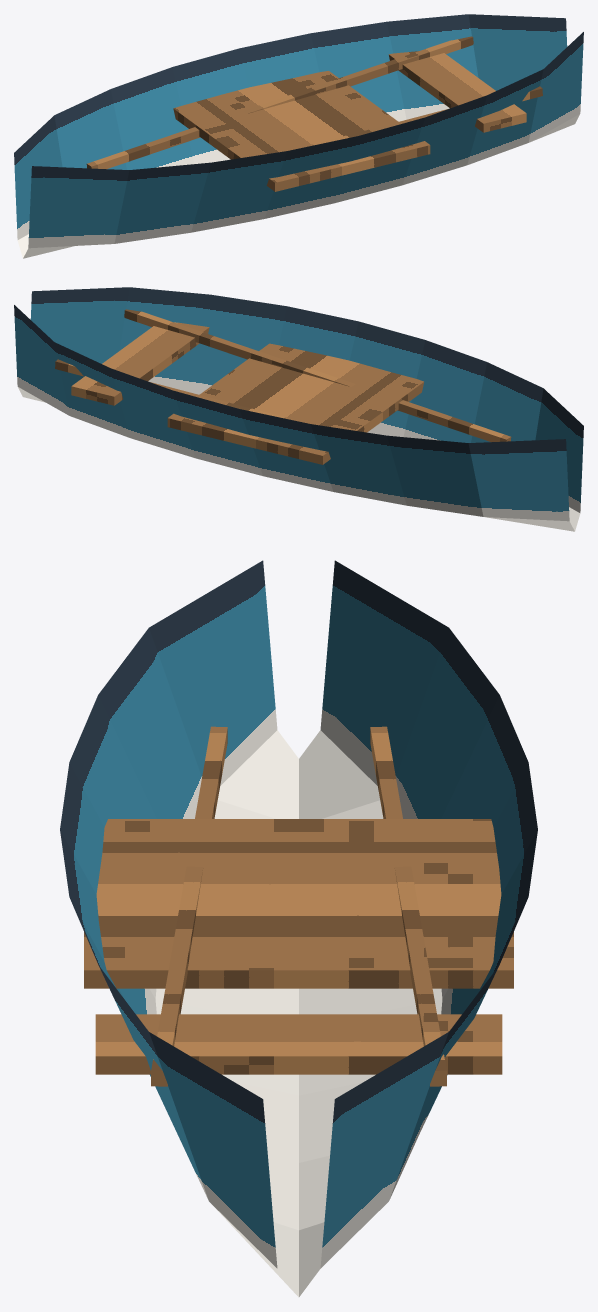
File: rowboat.glb
3 renders of one model, top to bottom at view 1: azimuth 30°, elevation 25°; view 2: azimuth 150°, elevation 25°; view 3: azimuth 270°, elevation 25°, orthographic. The views are drawn at different scales.
Parts seen in each view (by area): view 1: rowboat; view 2: rowboat; view 3: rowboat.
Boxes of the visible parts, x1=… form: rowboat: x1=14, y1=14, x2=583, y2=258; rowboat: x1=14, y1=287, x2=583, y2=531; rowboat: x1=60, y1=560, x2=537, y2=1297.
Size of the model in its own units: 3.2 by 0.55 by 1.2.
Materials: 2 (2 with a texture image).
